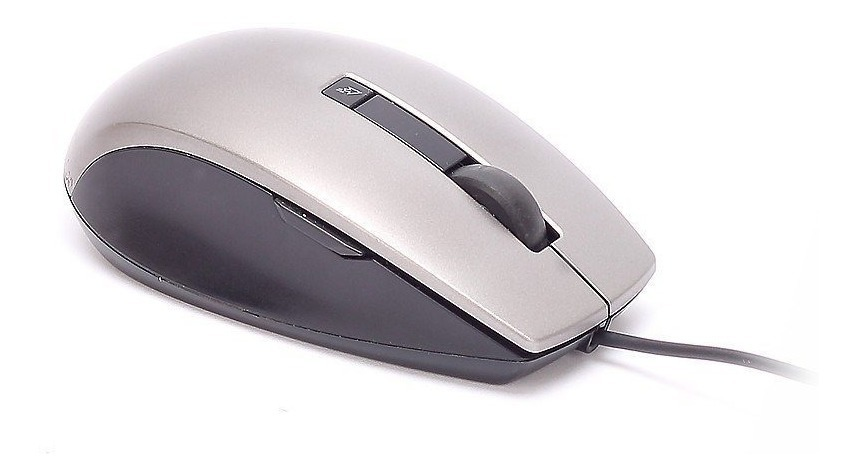mouse: (59, 18, 662, 390)
